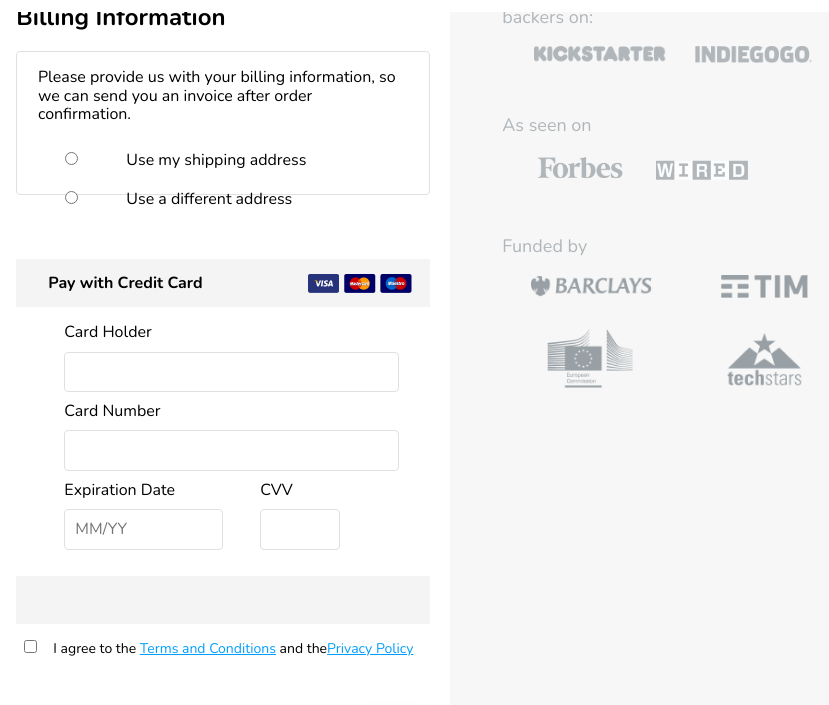
Payment Method Form › the Card Holder input cannot be empty
(page scrolled)
Focus the field with id "cardHolder": (232, 372) [64, 352, 399, 392]
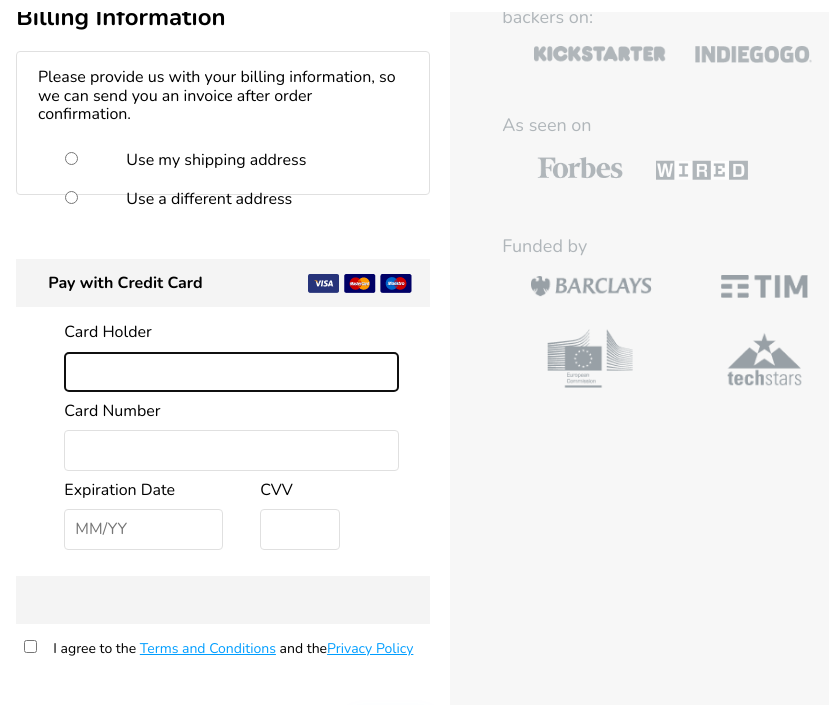
Leave the field with id "cardHolder", box [64, 352, 399, 392]
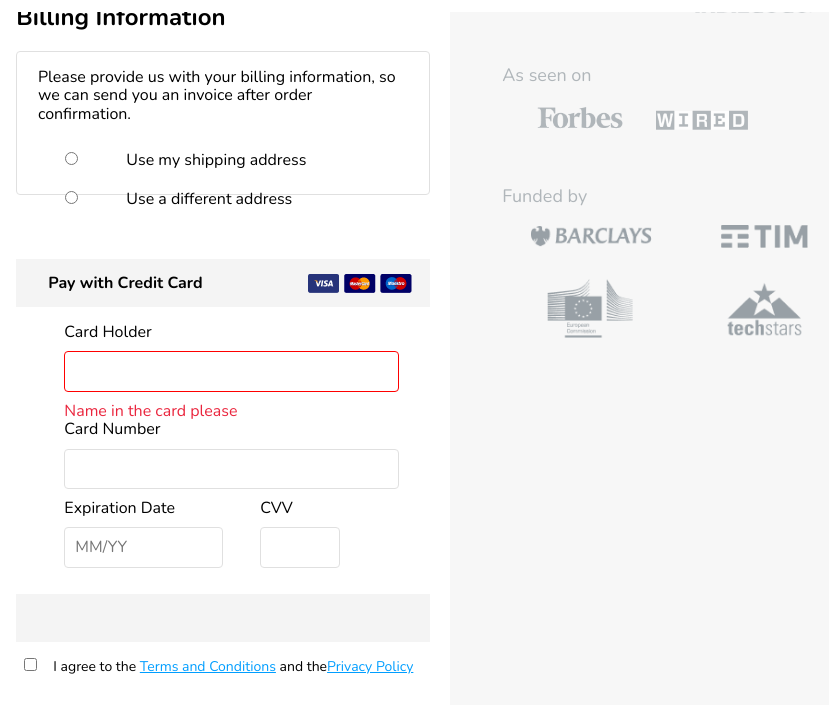
Check: the text "Name in the card please" is shown, box [64, 400, 237, 422]
